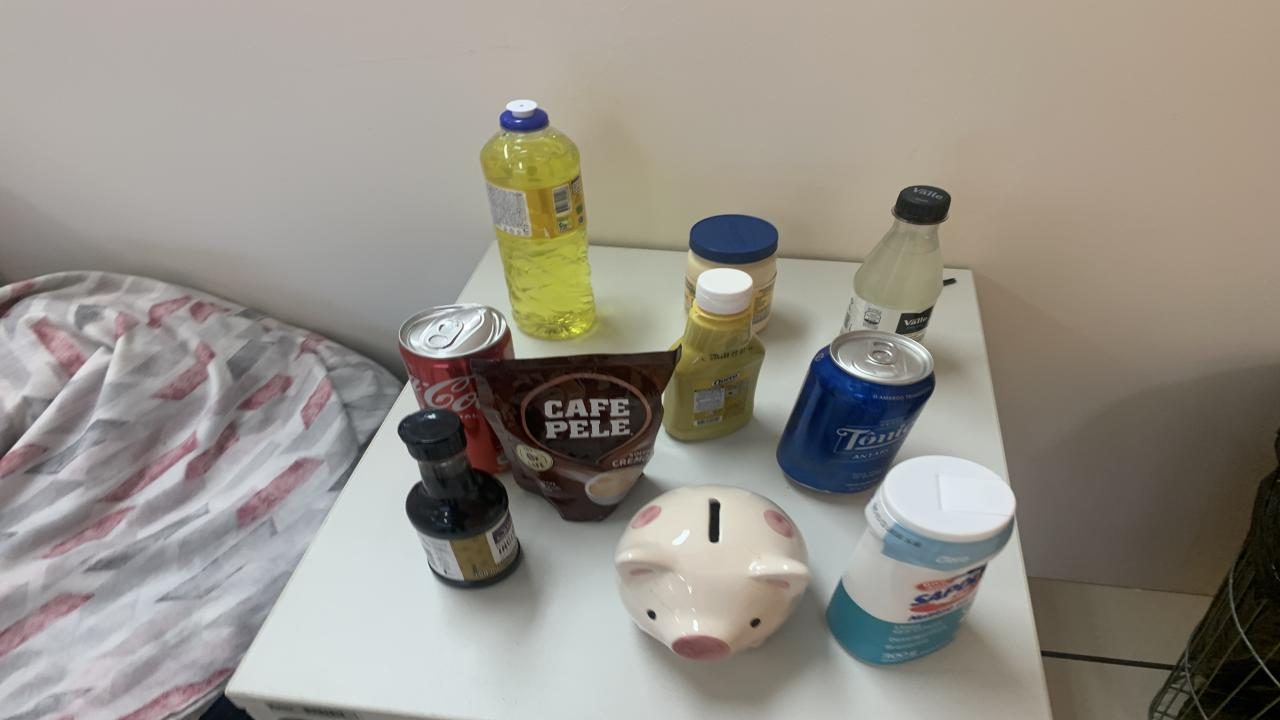Cleaner-Cleanup_Items: (828, 456, 1015, 664)
Coffee-Pantry_Items: (470, 351, 680, 521)
Coke-Drinks: (400, 304, 515, 472)
Detergent-Cleanup_Items: (480, 101, 595, 339)
English_Sauce-Pantry_Items: (398, 409, 520, 587)
Mayonnaise-Pantry_Items: (685, 214, 778, 332)
Mustard-Pantry_Items: (662, 268, 765, 441)
Pig_Safe-Miscellaneous: (615, 486, 812, 660)
Soda-Drinks: (842, 186, 950, 341)
Tonic-Drinks: (778, 330, 935, 493)
